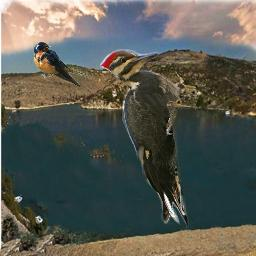Swallow: (33, 41, 94, 87)
Woodpecker: (100, 49, 190, 228)
